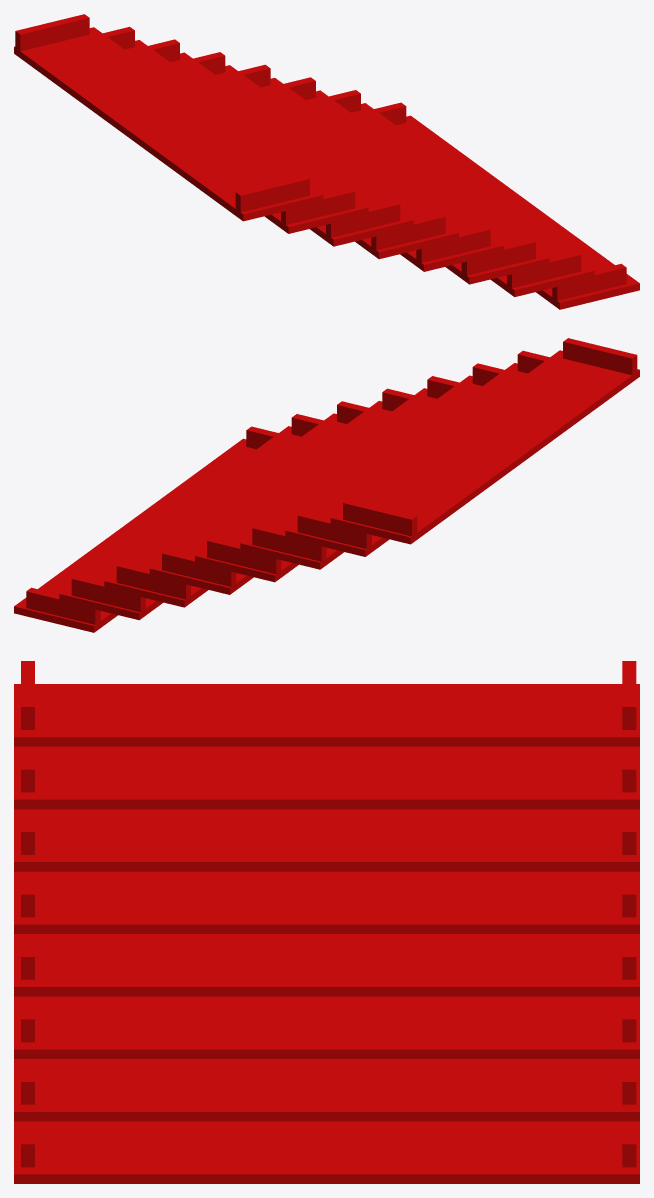
3 views of the same model, one above another, from view 1: azimuth 30°, elevation 25°; view 2: azimuth 150°, elevation 25°; view 3: azimuth 270°, elevation 25° (orthographic). The views are drawn at different scales.
Parts seen in each view (by area): view 1: Mesh; view 2: Mesh; view 3: Mesh.
Part boxes in pixels (<box>): Mesh: <box>14,14,639,309</box>; Mesh: <box>14,338,639,632</box>; Mesh: <box>14,661,639,1183</box>.
Size of the model in its own units: 1.3 by 0.5922 by 1.3.
